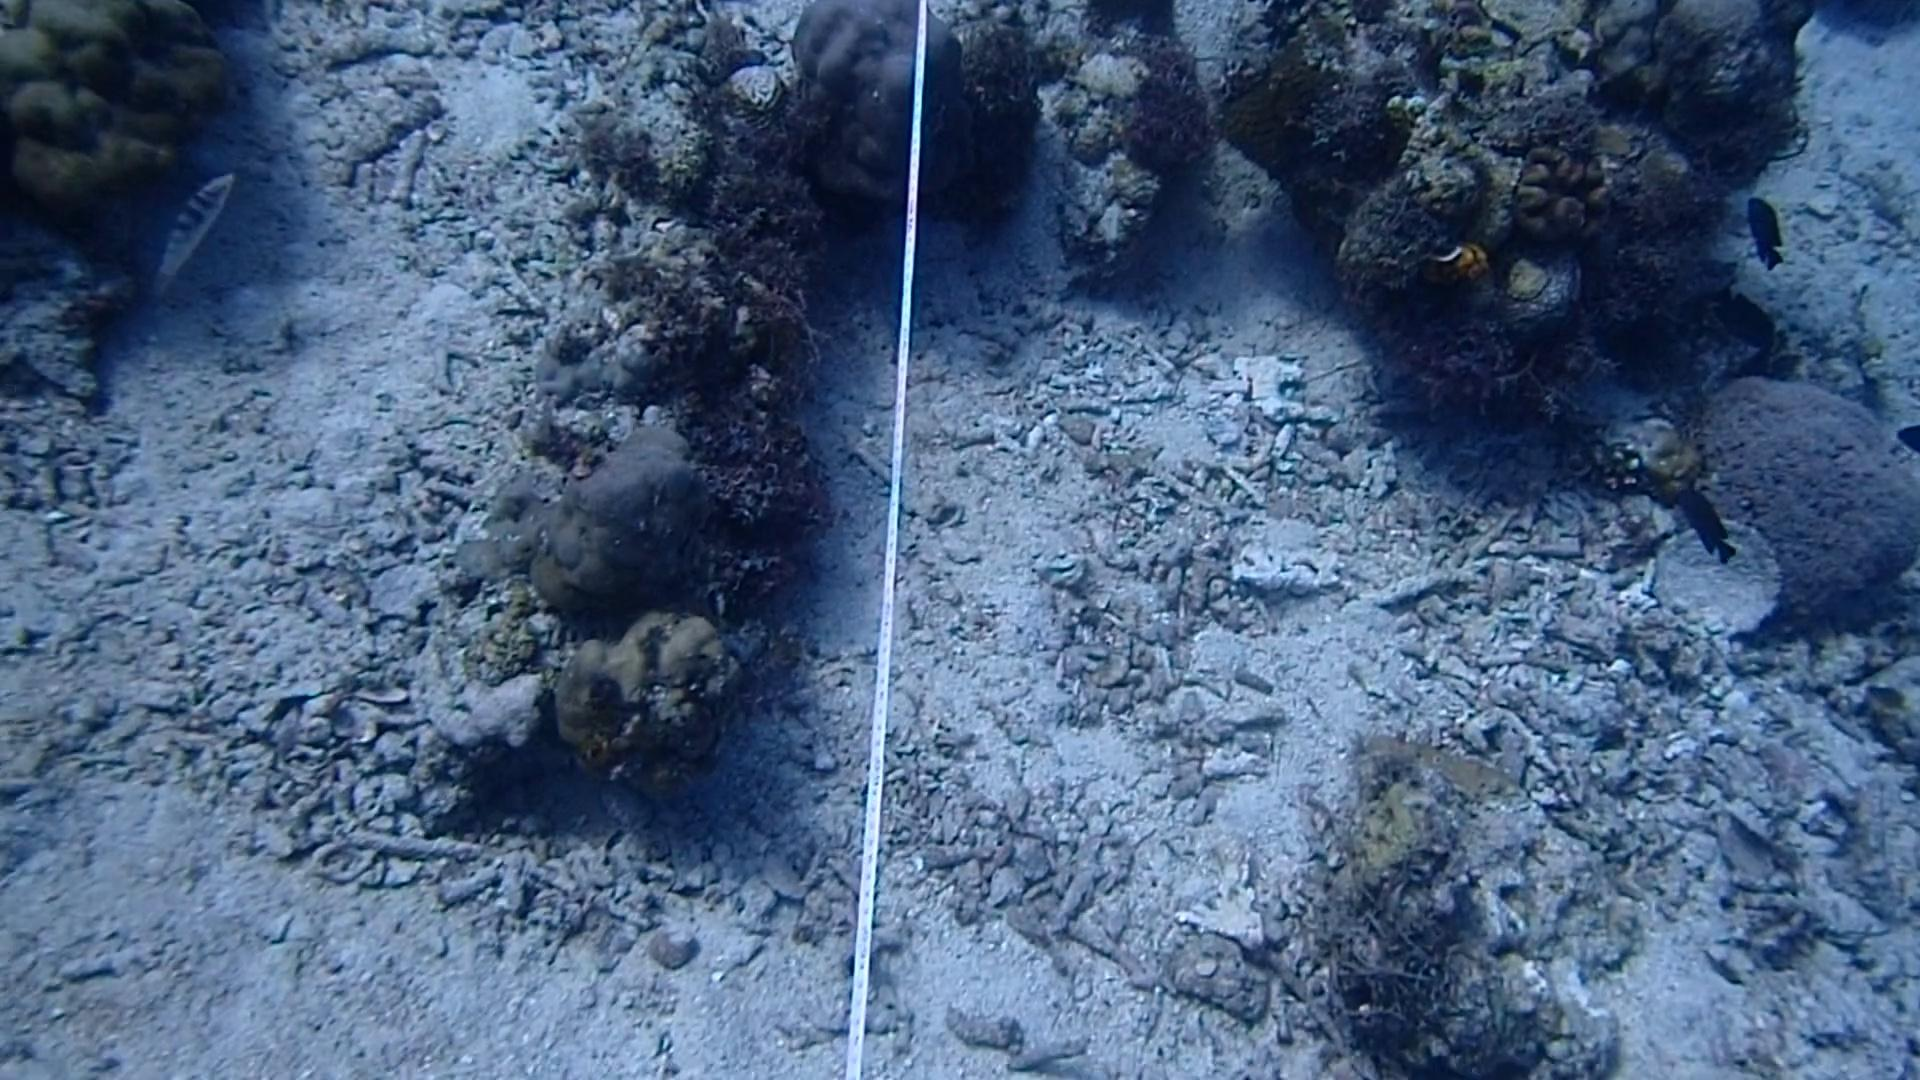Dark Fish: (1660, 473, 1750, 574), (1713, 274, 1779, 359), (1745, 179, 1796, 282)
Light Fish w Back Stripes: (132, 164, 255, 290)
